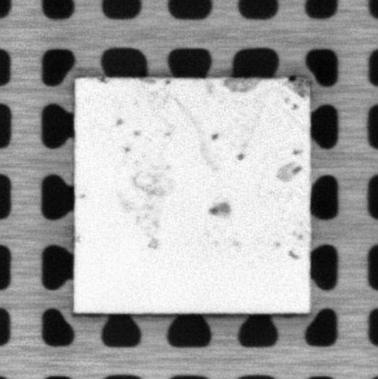DIE_INK: (93, 77, 310, 261), (78, 191, 87, 199)
